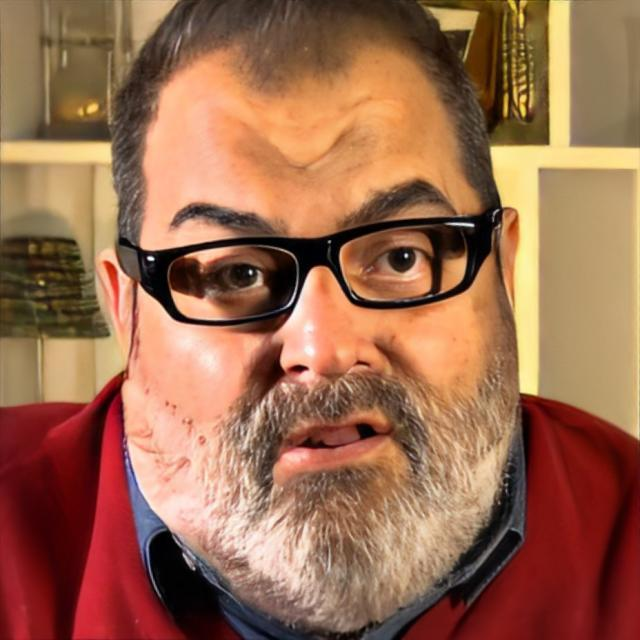disgust: (113, 0, 513, 635)
